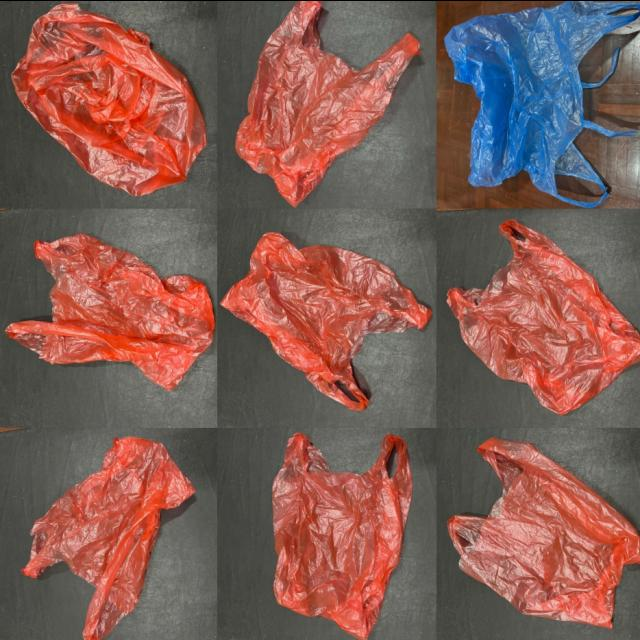plastik: (445, 0, 640, 207), (448, 218, 640, 414), (221, 231, 431, 410), (236, 0, 419, 205), (12, 2, 205, 195), (448, 437, 640, 627), (22, 437, 195, 640), (6, 232, 213, 389), (273, 432, 412, 640)
